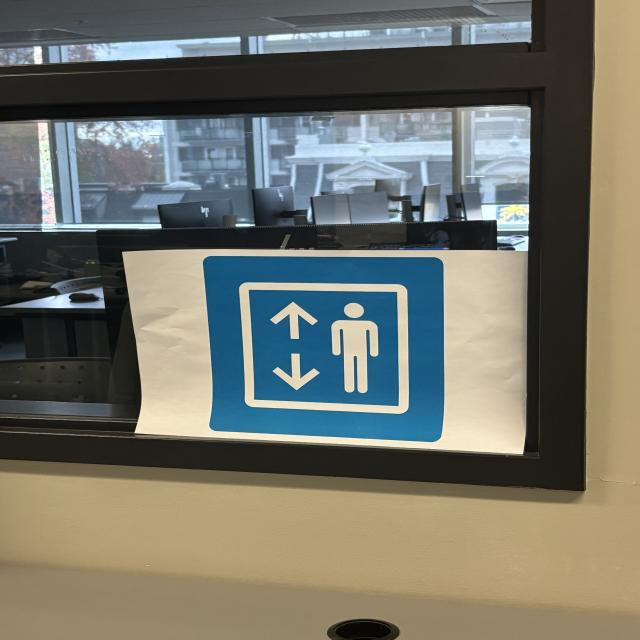elevator: (205, 256, 446, 440)
